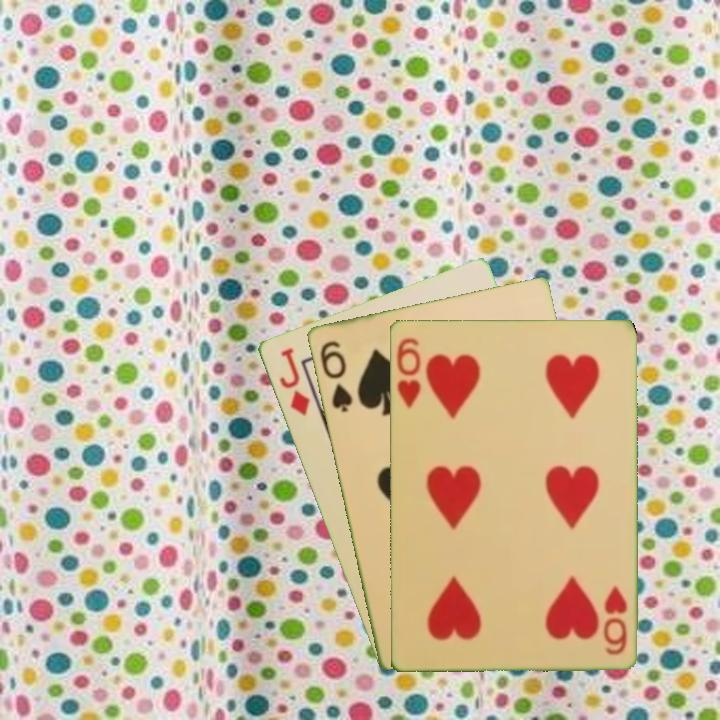6h: (393, 334, 423, 411), (599, 582, 629, 657)
6s: (316, 337, 355, 415)
Jd: (275, 343, 313, 419)
